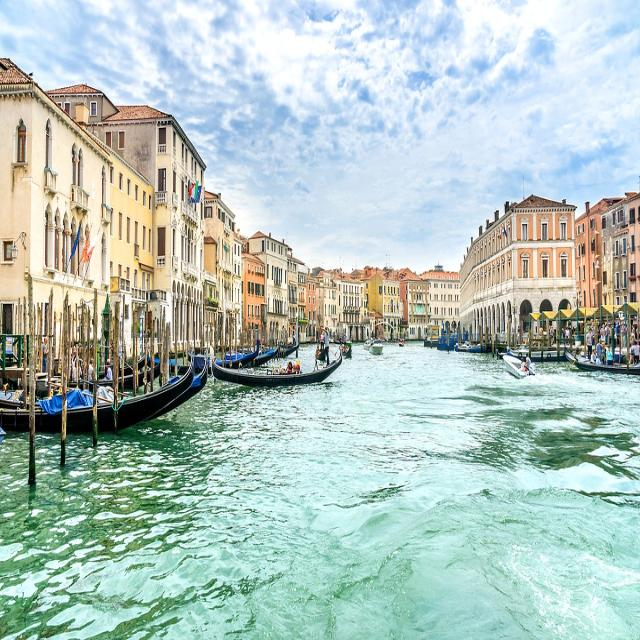boat: (0, 342, 219, 456), (196, 306, 351, 415)
